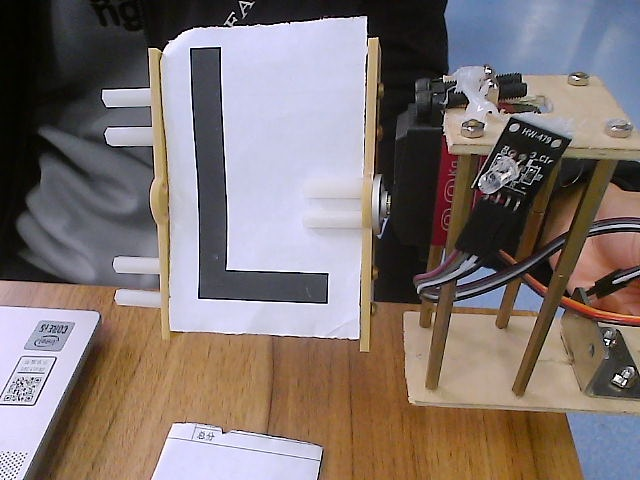L: (79, 15, 424, 373)
